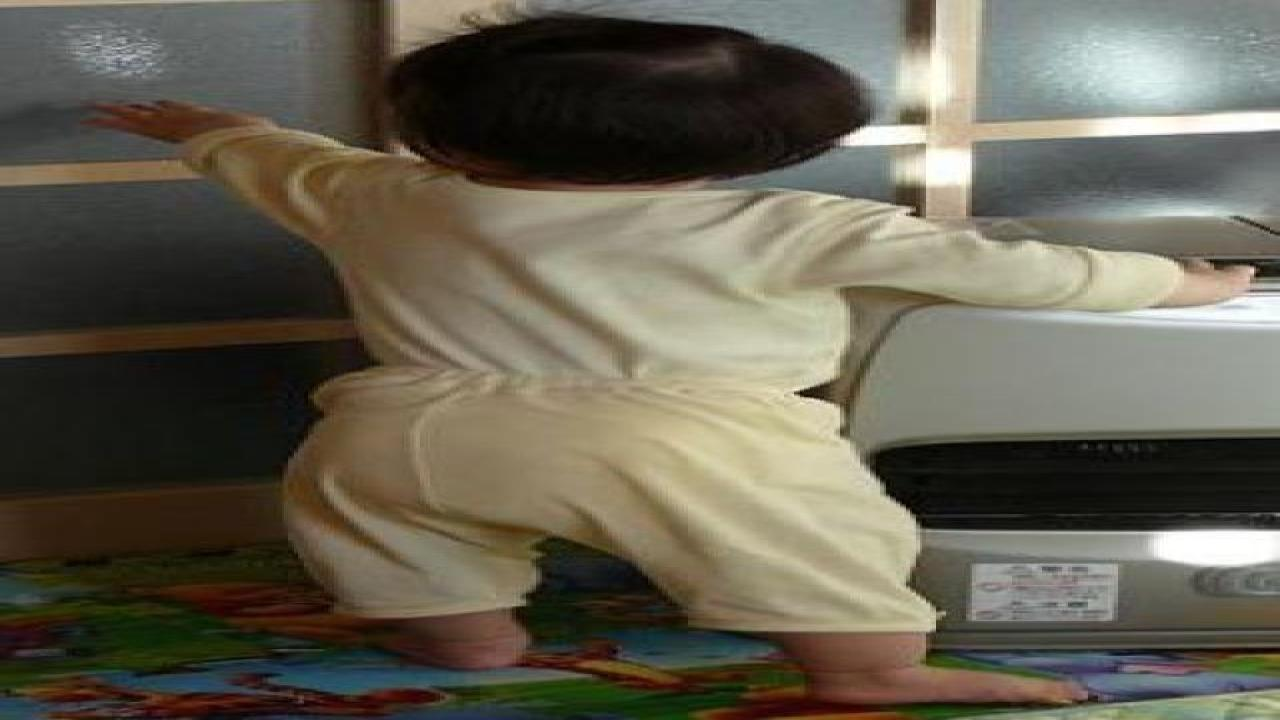hand: (93, 99, 260, 145)
